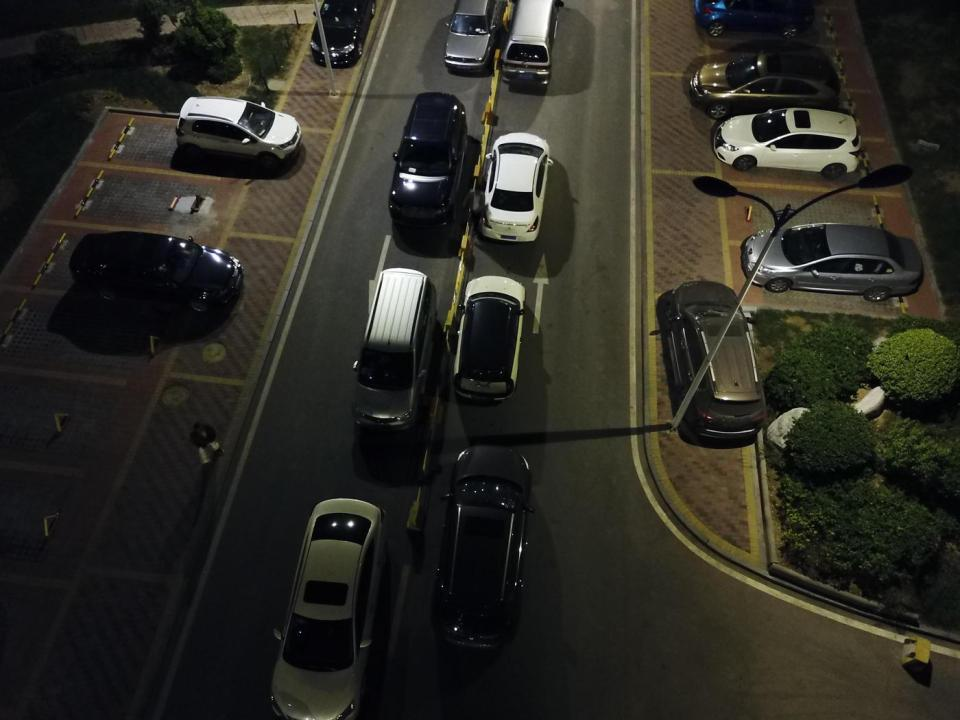car: (270, 498, 390, 720), (433, 443, 530, 653), (663, 280, 769, 441), (742, 222, 924, 302), (68, 232, 244, 314), (386, 92, 467, 228), (689, 47, 842, 119), (712, 107, 862, 180), (453, 275, 524, 403), (176, 96, 301, 166), (480, 132, 554, 244), (500, 0, 564, 88), (692, 0, 815, 39), (309, 0, 377, 69), (444, 0, 503, 73)
van: (350, 266, 439, 433)
